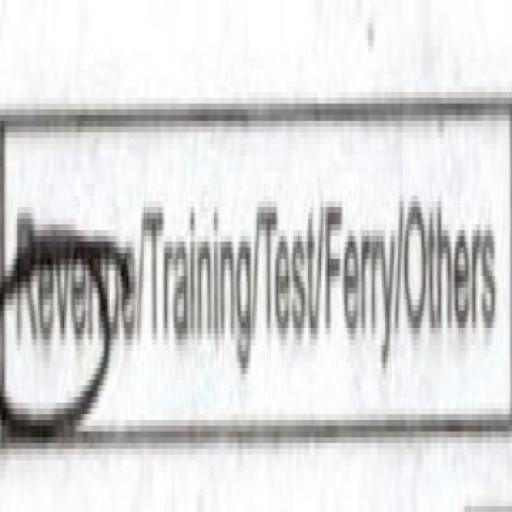check: (0, 78, 140, 471)
